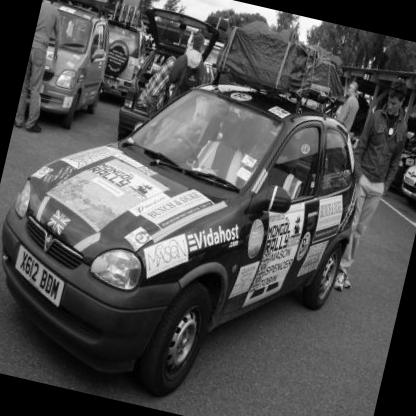car: (1, 9, 400, 416)
